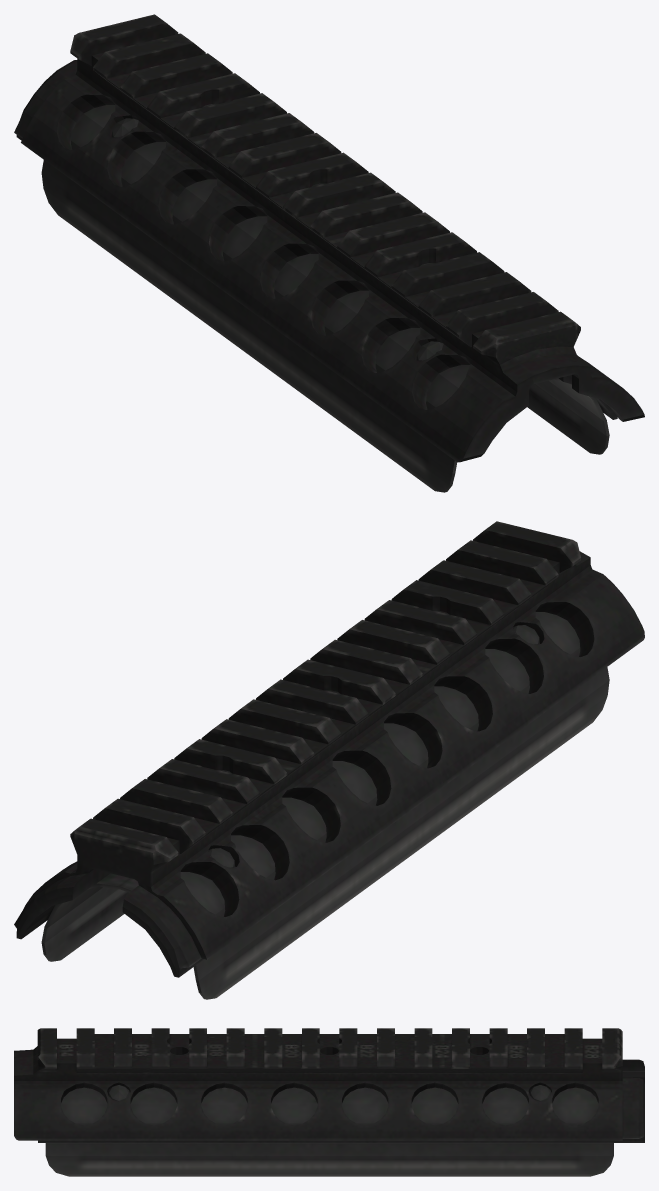
3 views of the same model, one above another, from view 1: azimuth 30°, elevation 25°; view 2: azimuth 150°, elevation 25°; view 3: azimuth 270°, elevation 25° (orthographic). The views are drawn at different scales.
Parts seen in each view (by area): view 1: TW_637f57b78d137b27f70c496a_PZ_Import; view 2: TW_637f57b78d137b27f70c496a_PZ_Import; view 3: TW_637f57b78d137b27f70c496a_PZ_Import.
Part boxes in pixels (x1,y1,x2,y2): TW_637f57b78d137b27f70c496a_PZ_Import: (14, 14, 644, 492); TW_637f57b78d137b27f70c496a_PZ_Import: (14, 521, 644, 999); TW_637f57b78d137b27f70c496a_PZ_Import: (14, 1028, 644, 1176).
Bounding box in the file's own units: 0.0229 × 0.0972 × 0.0185.
Materials: 1 (1 with a texture image).
